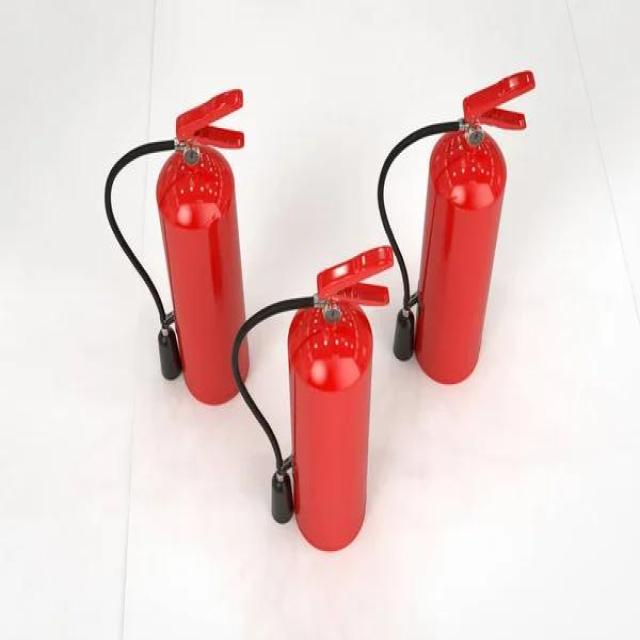fire_extinguisher: (227, 240, 398, 559), (372, 63, 535, 390), (100, 82, 251, 410)
